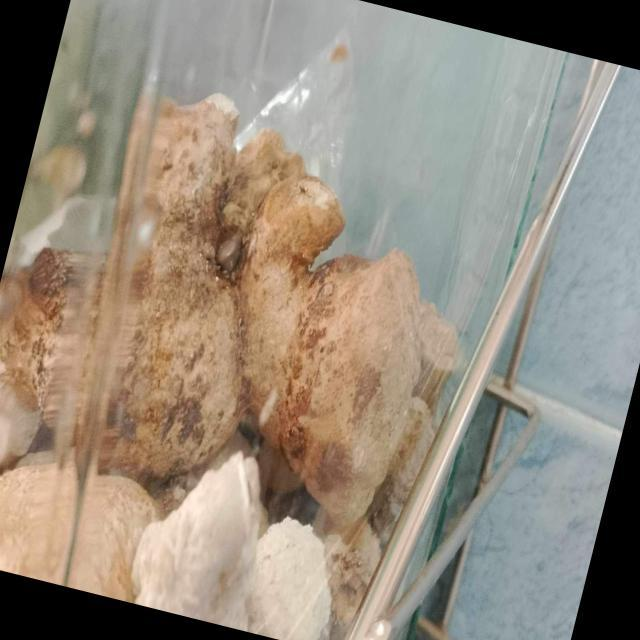General: (0, 0, 637, 639)
Sharps: (338, 54, 621, 639), (56, 0, 174, 587)
